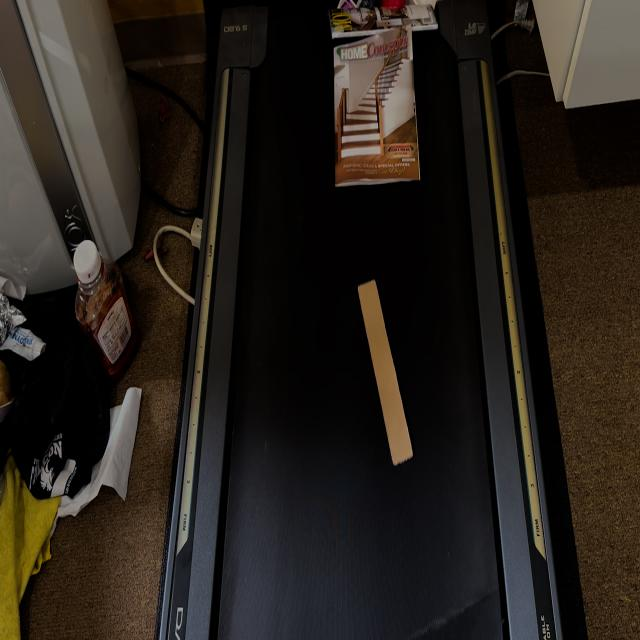Recycle: (326, 0, 432, 197), (361, 269, 422, 476)
